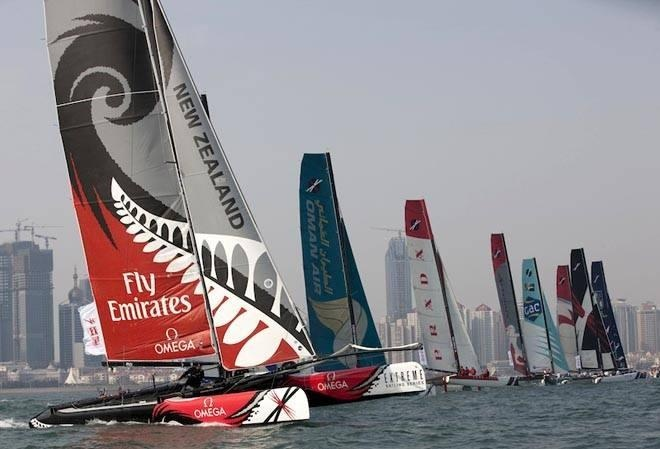fanchuan: (24, 1, 311, 434), (289, 144, 432, 399), (400, 196, 512, 390)
